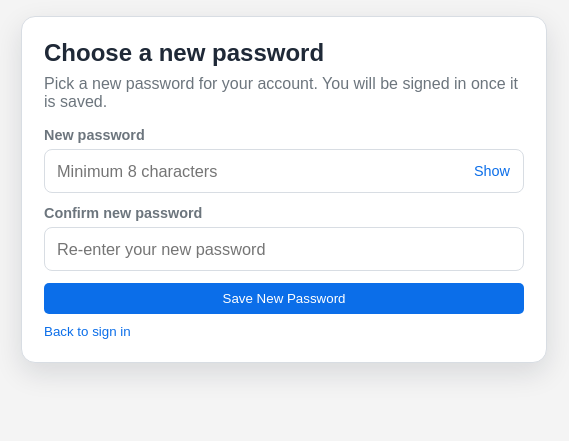
Scenario: ResetPasswordSection › shows the server message when the link is expired
The width and height of the screenshot is (569, 441).
Type "correct-horse" into the password field labelled "New password".
click(284, 171); type("correct-horse")  # box [44, 149, 524, 193]
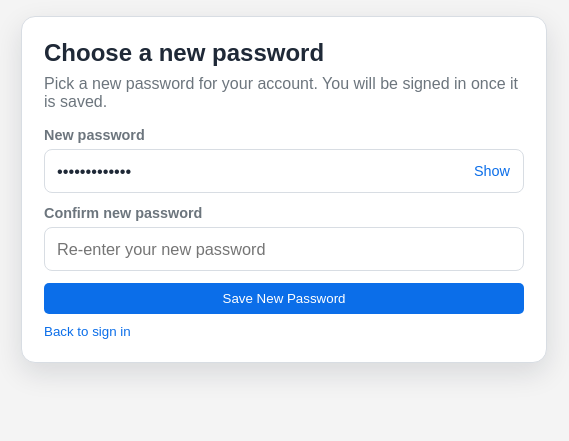
Type "correct-horse" into the password field labelled "Confirm new password".
click(284, 249); type("correct-horse")  # box [44, 227, 524, 271]
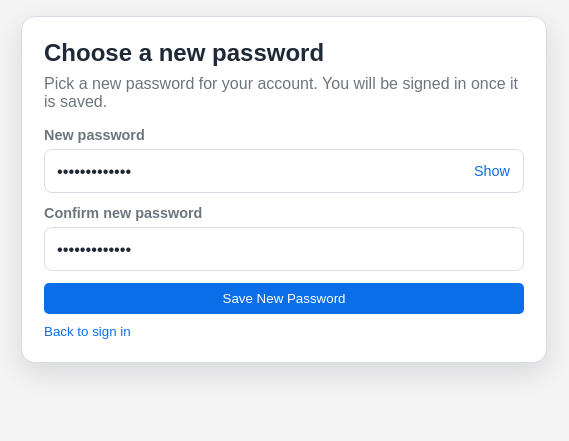
Click the button "Save New Password".
click(284, 298)  # box [44, 283, 524, 314]
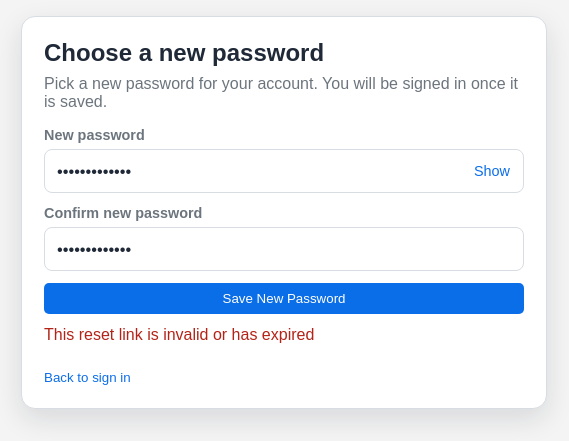
Expected: the text "This reset link is invalid or has expired" is shown, [44, 326, 314, 343]
